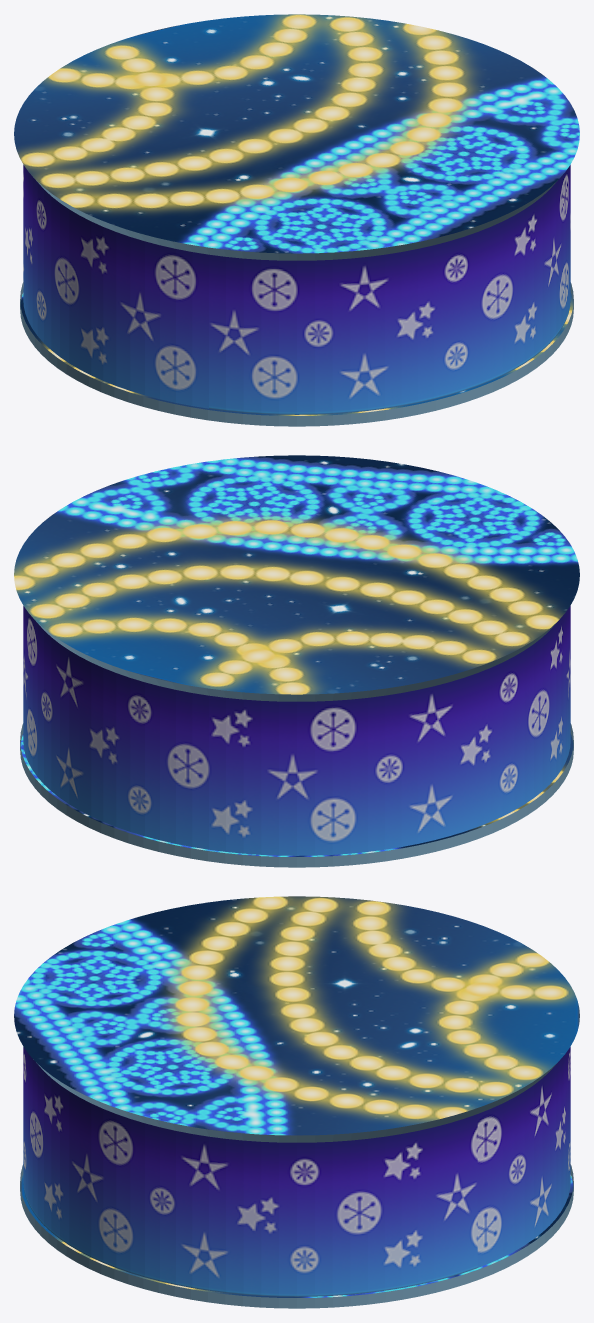
The model's file is pedestal.glb.
The picture shows the model from 3 angles, top to bottom: view 1: azimuth 30°, elevation 25°; view 2: azimuth 150°, elevation 25°; view 3: azimuth 270°, elevation 25°; orthographic projection.
Parts seen in each view (by area): view 1: StandAtlasTop, StandAtlasSide, GoldFootTrim, GoldTopLip, StandSolidBottom; view 2: StandAtlasTop, StandAtlasSide, GoldFootTrim, GoldTopLip, StandSolidBottom; view 3: StandAtlasTop, StandAtlasSide, GoldFootTrim, GoldTopLip, StandSolidBottom.
Boxes of the visible parts, x1,y1,x2,y2 form: StandAtlasTop: (14,14,579,253); StandAtlasSide: (23,165,570,414); GoldFootTrim: (20,282,573,426); GoldTopLip: (33,177,560,260); StandSolidBottom: (20,293,573,415); StandAtlasTop: (14,455,579,694); StandAtlasSide: (23,606,570,855); GoldFootTrim: (20,723,573,867); GoldTopLip: (33,618,560,701); StandSolidBottom: (20,734,573,856); StandAtlasTop: (14,896,579,1135); StandAtlasSide: (23,1047,570,1296); GoldFootTrim: (20,1164,573,1308); GoldTopLip: (33,1059,560,1142); StandSolidBottom: (20,1175,573,1297).
Size of the model in its own units: 3.67 by 1.26 by 3.67.
2 materials, 1 textured.
